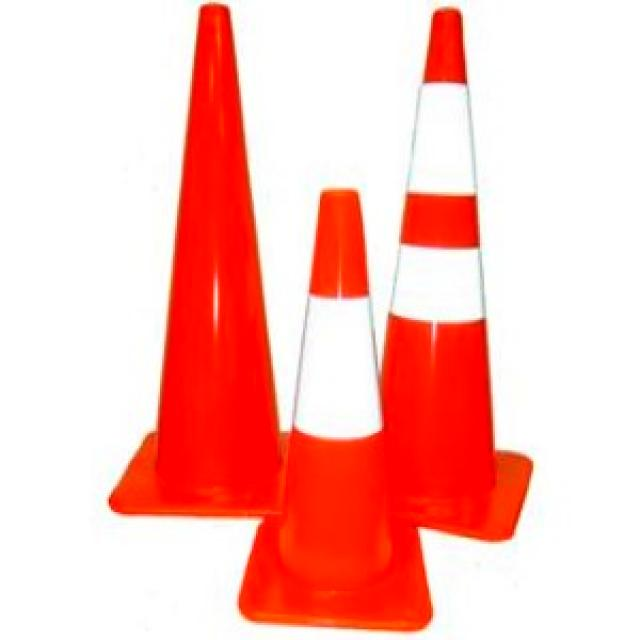cone: (108, 0, 291, 518), (238, 183, 436, 632), (372, 5, 536, 543)
